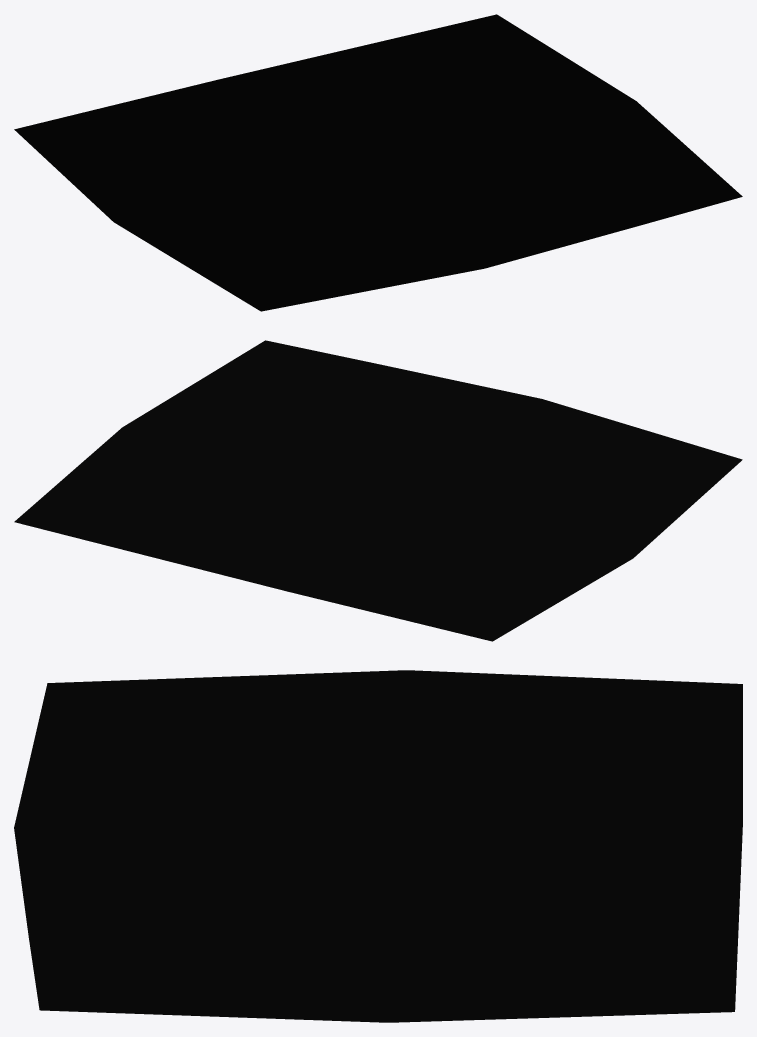
3 renders of one model, top to bottom at view 1: azimuth 30°, elevation 25°; view 2: azimuth 150°, elevation 25°; view 3: azimuth 270°, elevation 25°, orthographic. The views are drawn at different scales.
Visible parts, largest first — view 1: Joint_0_Object_0; view 2: Joint_0_Object_0; view 3: Joint_0_Object_0.
Boxes of the visible parts, left/top/right/bottom form: Joint_0_Object_0: left=14, top=14, right=742, bottom=311; Joint_0_Object_0: left=14, top=340, right=742, bottom=641; Joint_0_Object_0: left=14, top=670, right=742, bottom=1022.
Bounding box in the file's own units: 1371 × 0 × 1198.
Materials: 1 (1 with a texture image).
